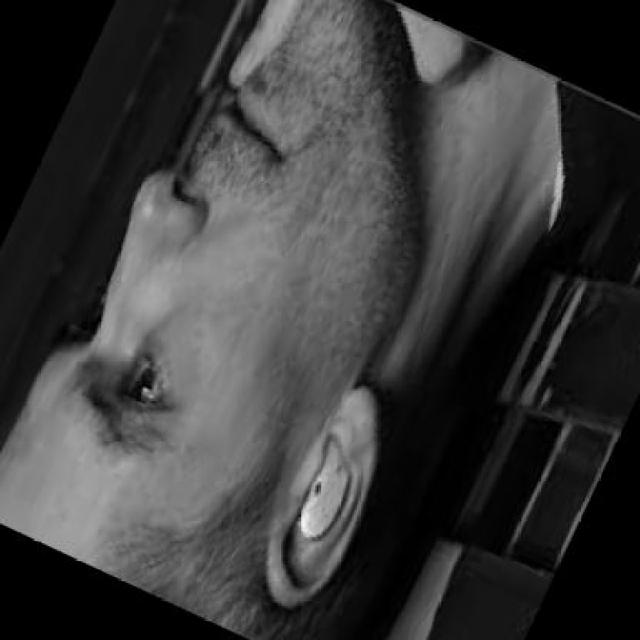earphone: (282, 398, 366, 547)
